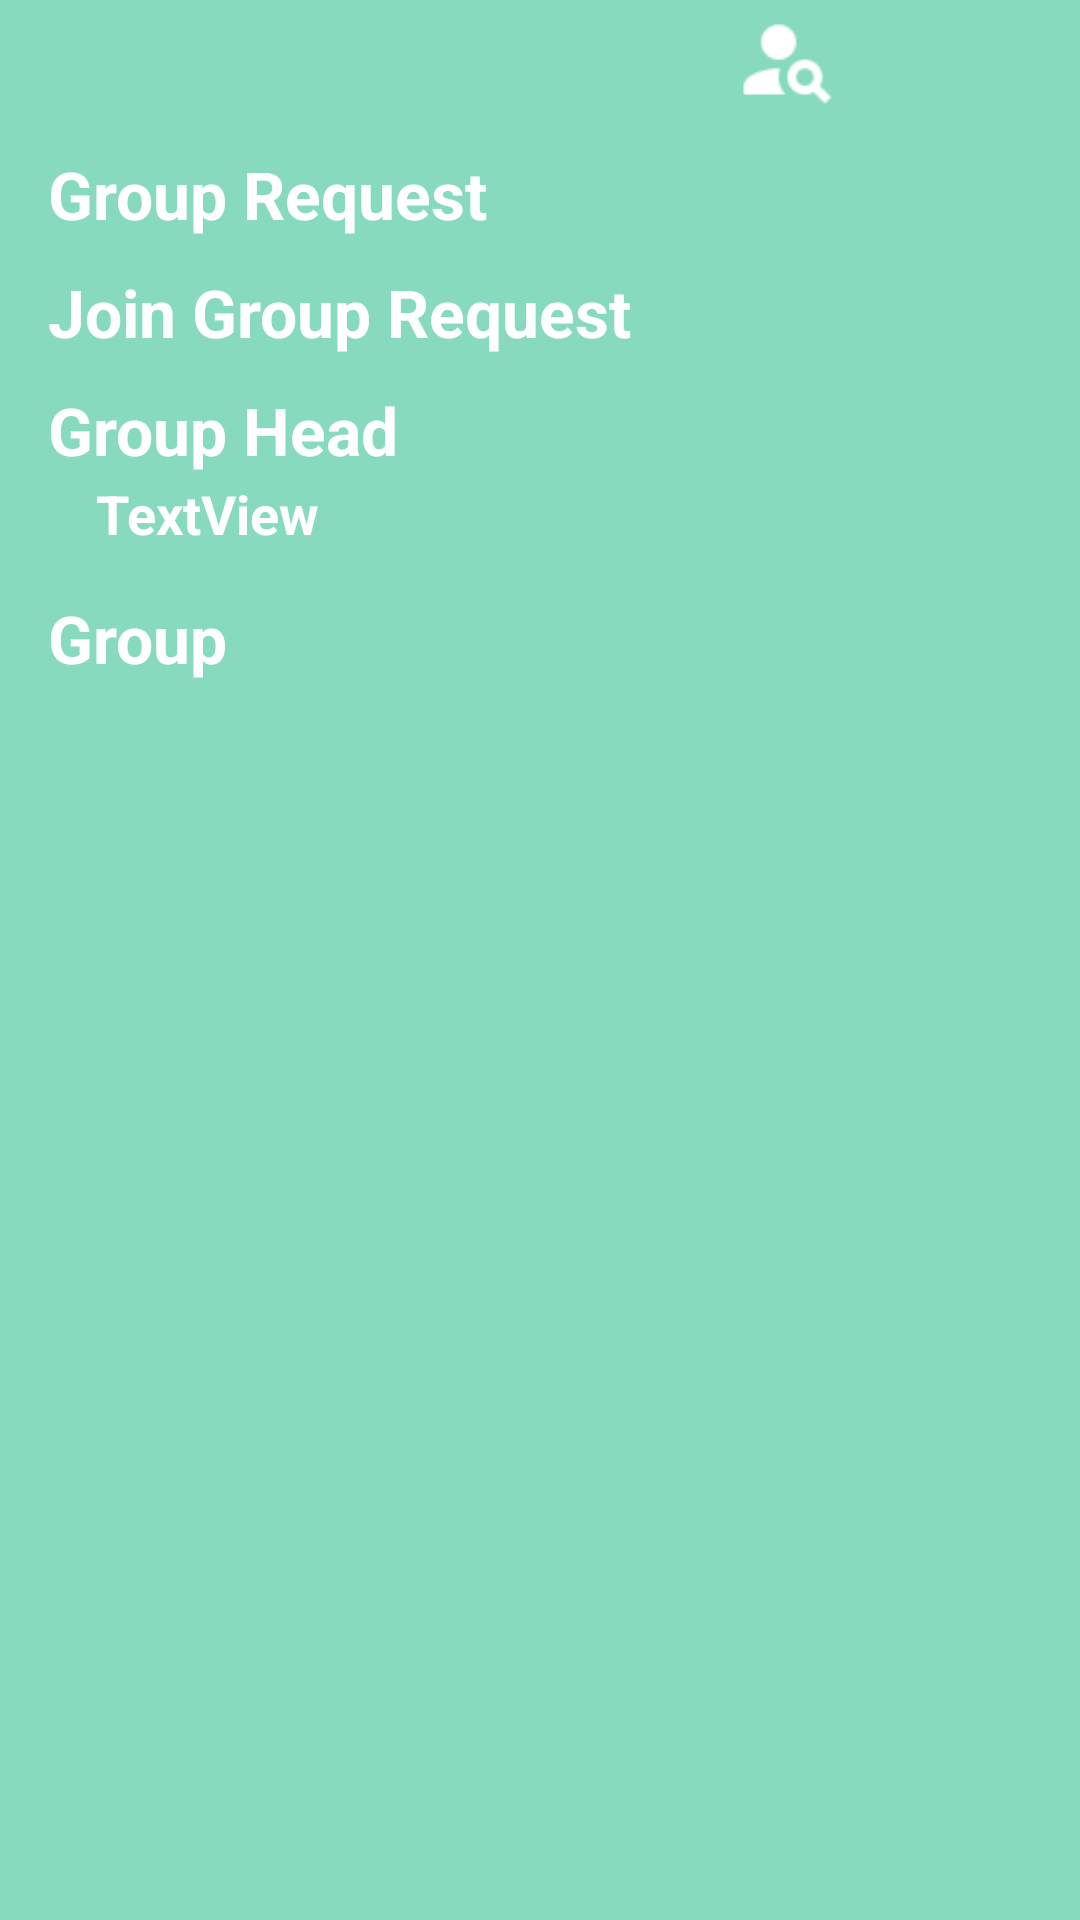

Locate icon controls on the screen. Image size 1080 x 1920, boxes as (x1, y1, x2, y2).
person search: (743, 24, 832, 104)
